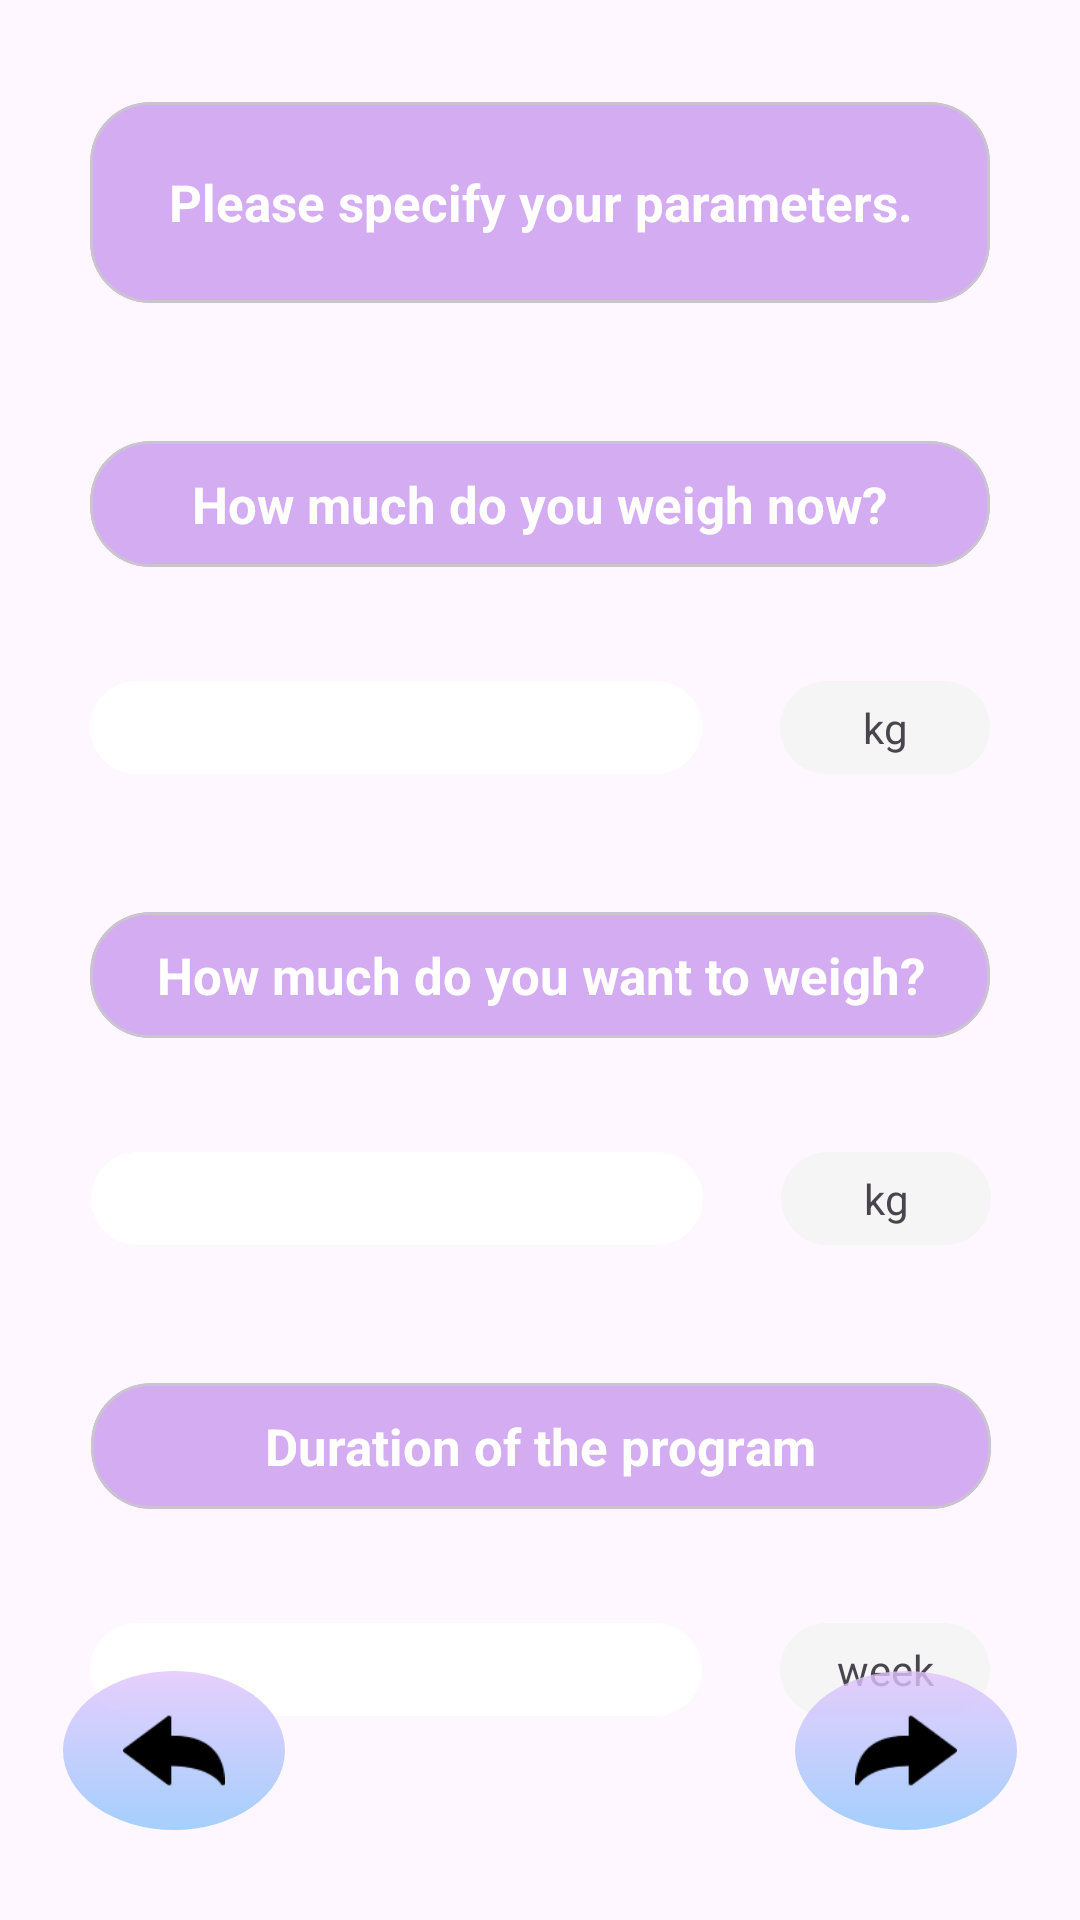

Named icons in this screenshot (1080x1920) and their bounding boxes, [left=x1, top=y1, right=x2, bottom=y2]:
turn left: [left=63, top=1671, right=285, bottom=1830]
turn right: [left=795, top=1671, right=1017, bottom=1830]
